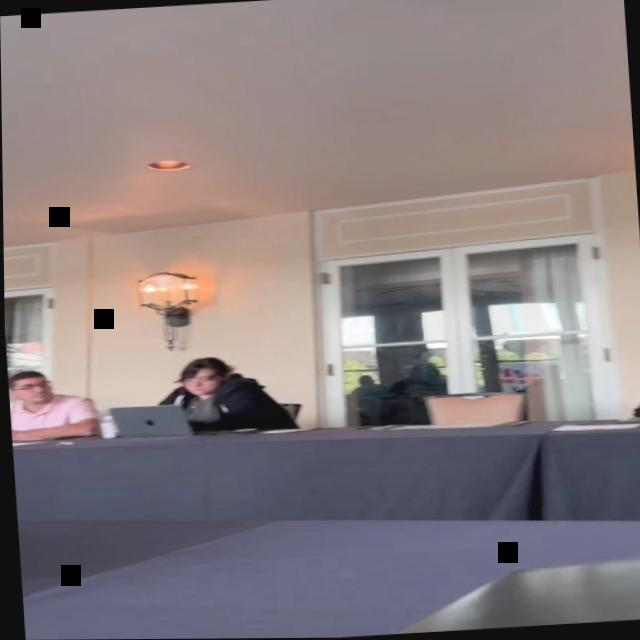NO-Mask: (13, 378, 50, 405), (184, 368, 217, 398)
